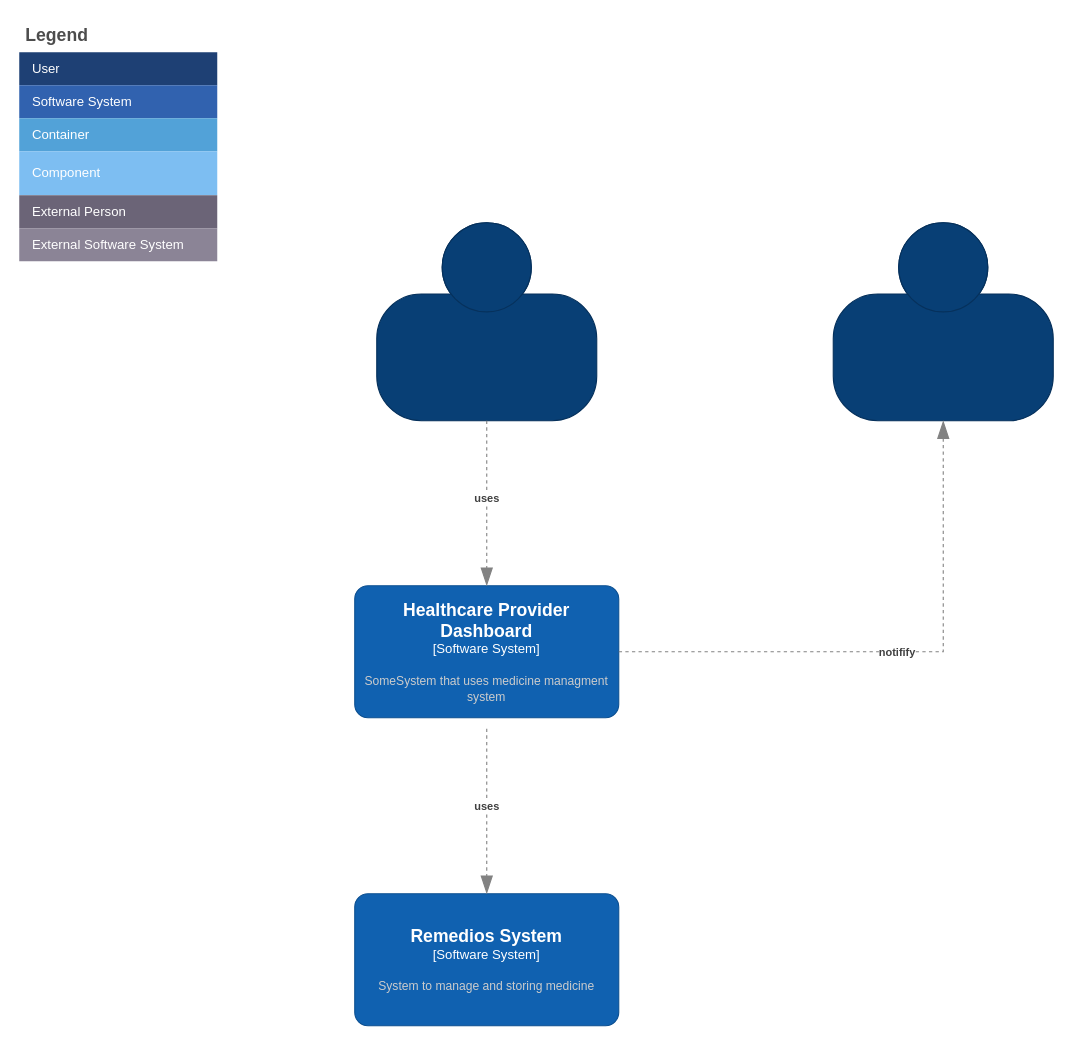
Some shapes in this 1073 by 1045 pixel diagram are drawn without their labels. Each missing label, with the centre of its shape:
patient [Person] patient: (x=942, y=321)
pharmacist [Person] pharmacist: (x=486, y=321)
